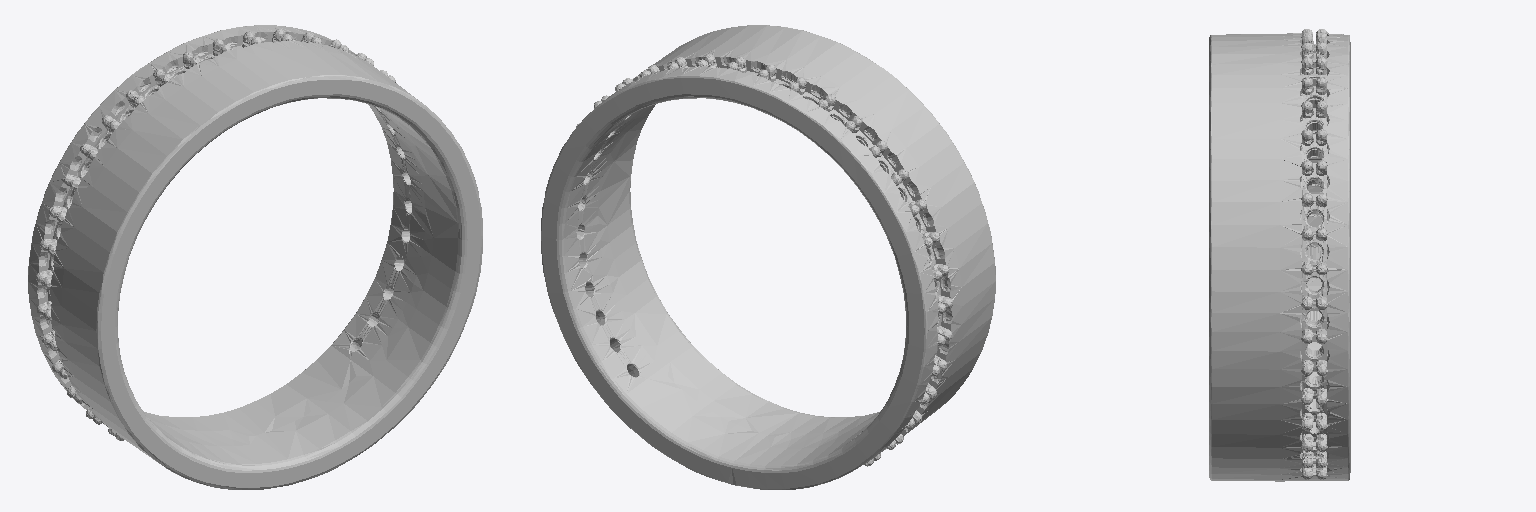
The model's file is shank1.obj.
The picture shows the model from 3 angles: view 1: azimuth 30°, elevation 25°; view 2: azimuth 150°, elevation 25°; view 3: azimuth 270°, elevation 25°; orthographic projection.
Parts seen in each view (by area): view 1: shank1; view 2: shank1; view 3: shank1.
Part boxes in pixels (x1,y1,x2,y2): shank1: (28, 25, 482, 489); shank1: (541, 25, 995, 489); shank1: (1209, 29, 1350, 481).
Size of the model in its own units: 5.79 by 5.74 by 1.8.